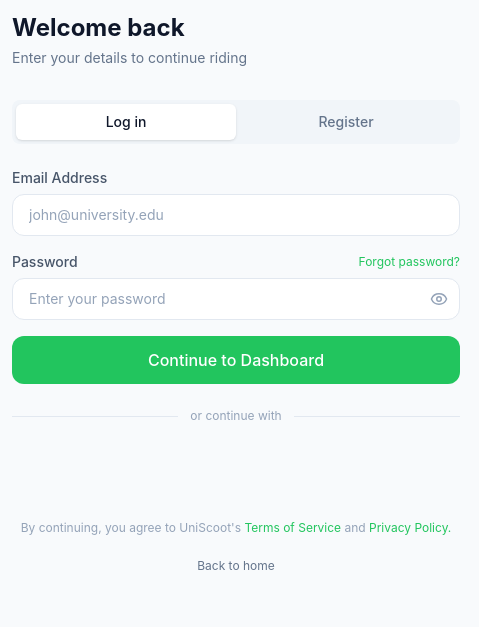
Test: LoginForm › shows field-level errors on empty submit
Click the button "Continue to Dashboard".
click(236, 360)  # box left=12, top=336, right=460, bottom=384
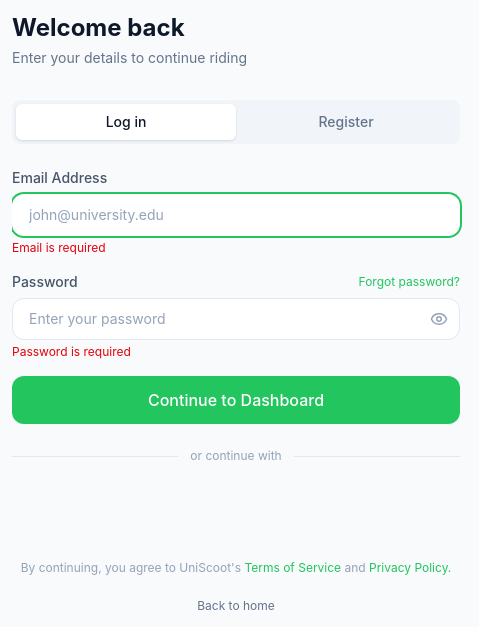
expect the text "Email is required" is shown: met, box left=12, top=240, right=106, bottom=255
expect the text "Password is required" is shown: met, box left=12, top=344, right=131, bottom=359
